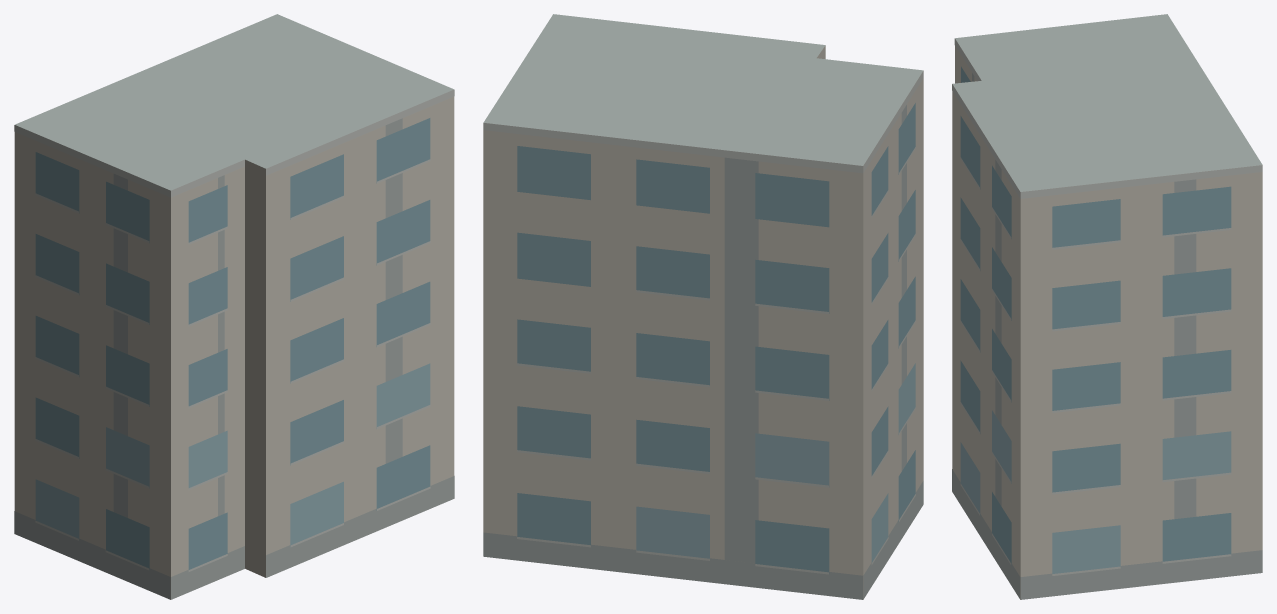
The model's file is survey-upis-32693622.glb.
3 views of the same model, side by side, from view 1: azimuth 30°, elevation 25°; view 2: azimuth 150°, elevation 25°; view 3: azimuth 270°, elevation 25° (orthographic). The views are drawn at different scales.
Visible parts, largest first — view 1: survey-upis-32693622.tmp; view 2: survey-upis-32693622.tmp; view 3: survey-upis-32693622.tmp.
Boxes of the visible parts, box(x1,y1,x2,y2) form: survey-upis-32693622.tmp: box(14, 14, 454, 599); survey-upis-32693622.tmp: box(483, 14, 923, 599); survey-upis-32693622.tmp: box(952, 14, 1262, 599).
Bounding box in the file's own units: 13.45 × 14.35 × 9.91.
